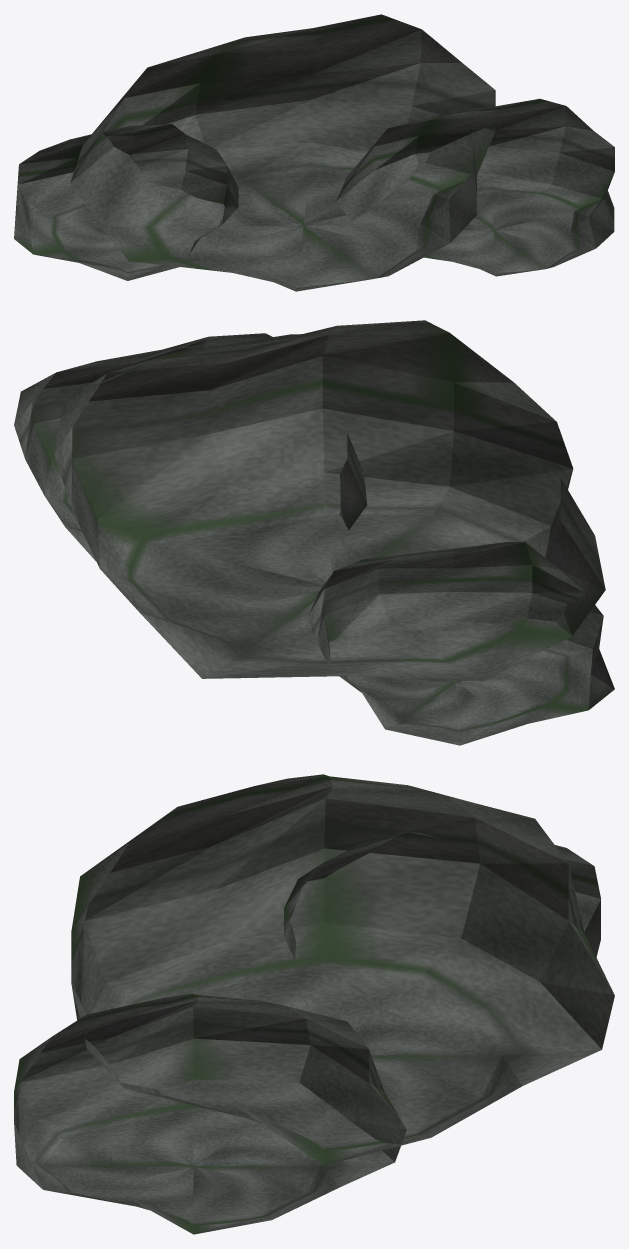
Rendered from boulder.glb.
3 views of the same model, one above another, from view 1: azimuth 30°, elevation 25°; view 2: azimuth 150°, elevation 25°; view 3: azimuth 270°, elevation 25° (orthographic). The views are drawn at different scales.
Visible parts, largest first — view 1: GraniteBoulder; view 2: GraniteBoulder; view 3: GraniteBoulder.
Boxes of the visible parts, x1,y1,x2,y2 form: GraniteBoulder: (14,14,614,291); GraniteBoulder: (14,320,614,745); GraniteBoulder: (14,774,614,1234).
Size of the model in its own units: 39.09 by 13.12 by 27.59.
1 material, 1 textured.
